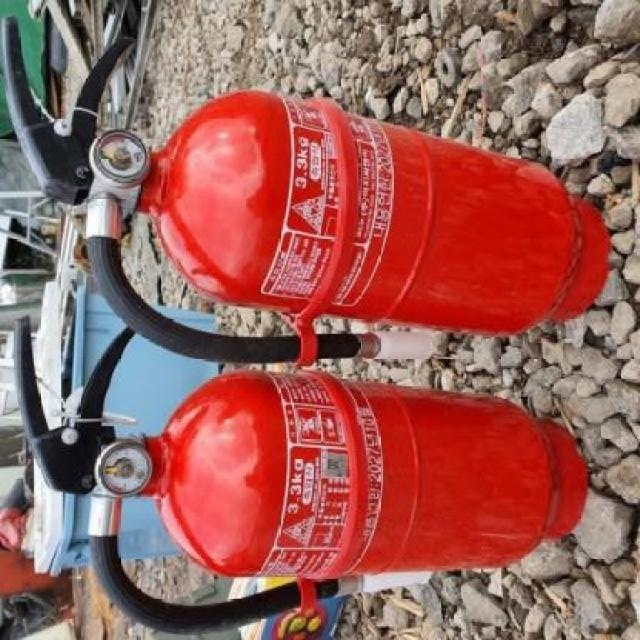fire extinguisher: (1, 13, 612, 370), (14, 315, 589, 636)
